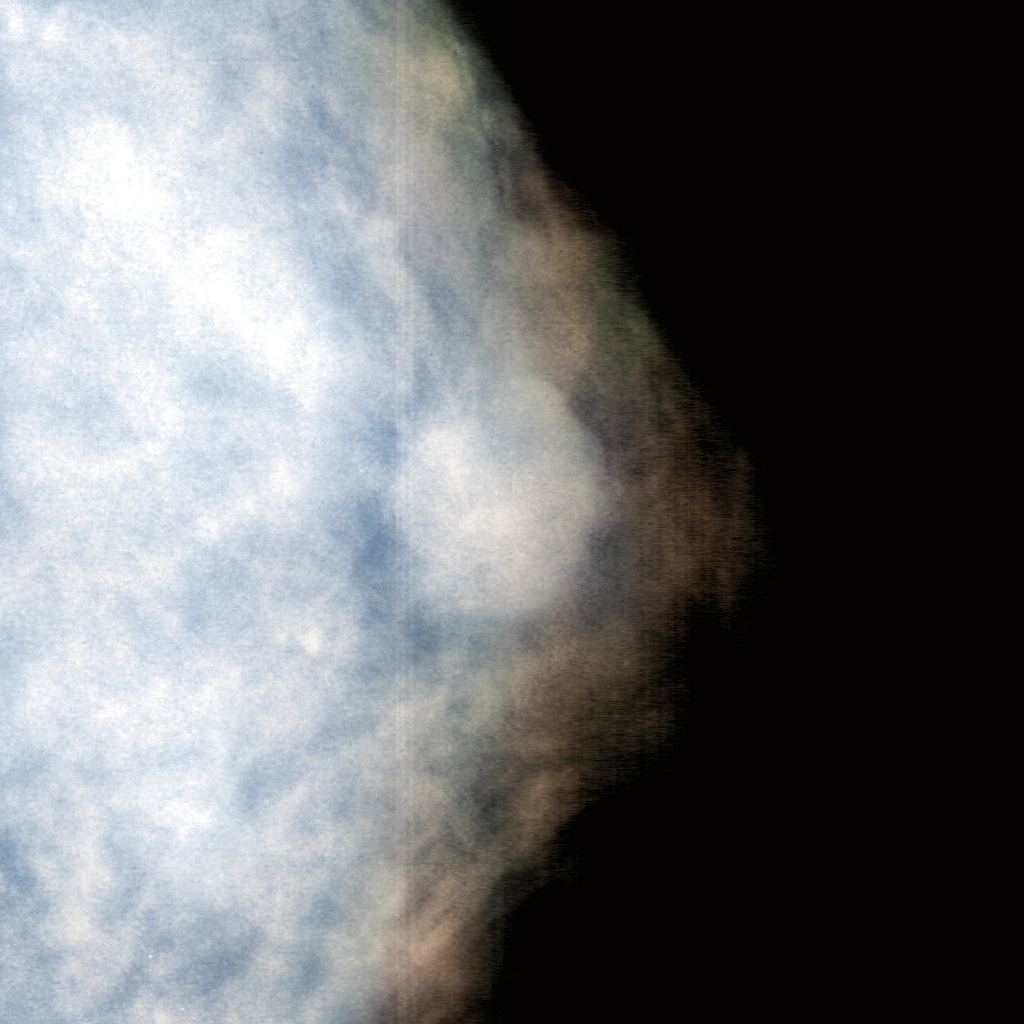tumor: (348, 378, 676, 646)
